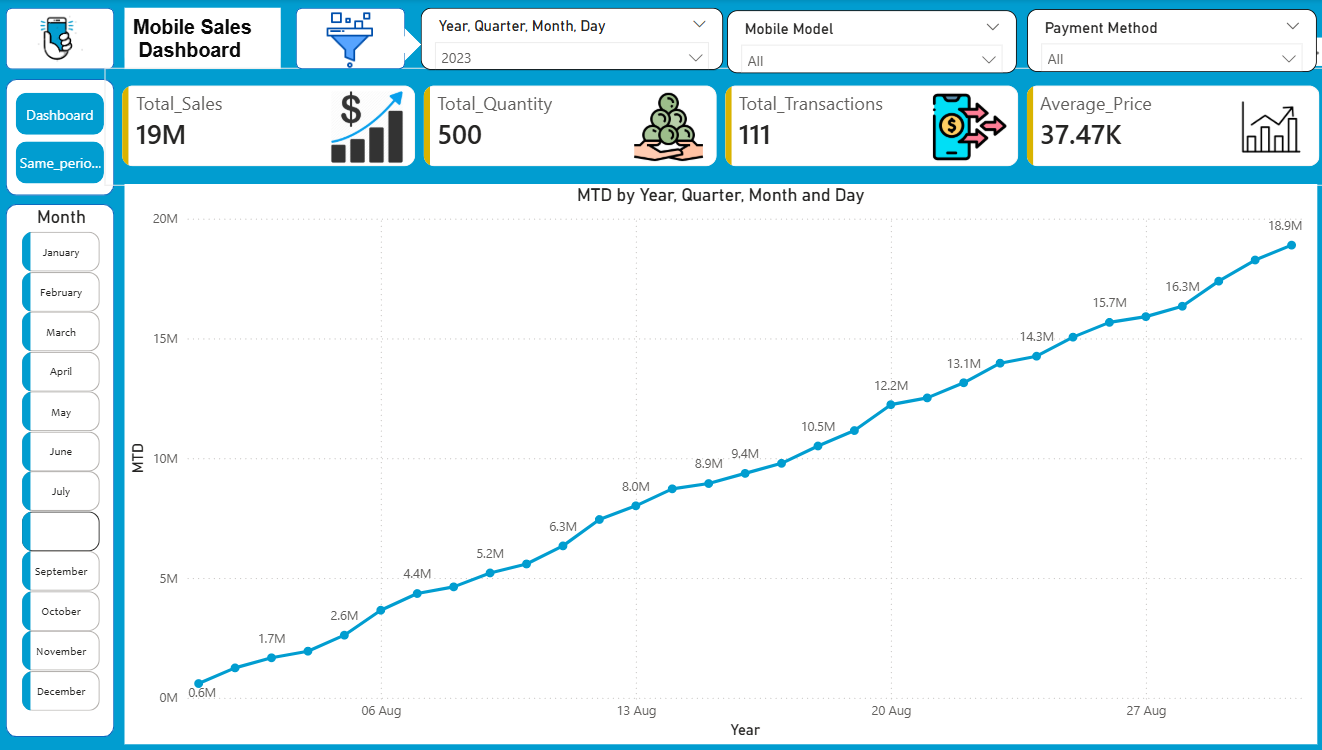

Layout of this report page (visuals, bound fields, positions):
{"tool":"powerbi","page":{"name":"MTD_Report","canvas":[1280,720],"ordinal":1},"visuals":[{"type":"shape","box":[8.9,8.9,103.3,58.9],"z":0},{"type":"image","box":[20,11.1,73.3,56.7],"z":1000},{"type":"shape","title":"Mobile Sales Dashboard","box":[121.4,8.6,148.6,58.6],"z":2000},{"type":"shape","box":[8.9,76.7,103.3,111.1],"z":3000},{"type":"cardVisual","fields":{"Data":["MObile.Total_Sales","MObile.Total_Quantity","MObile.Total_Transactions","MObile.Average_Price"]},"box":[102.9,65.9,1177.4,111.1],"z":4000},{"type":"slicer","fields":{"Values":["Date.Date.Variation.Date Hierarchy.Year","Date.Date.Variation.Date Hierarchy.Quarter","Date.Date.Variation.Date Hierarchy.Month","Date.Date.Variation.Date Hierarchy.Day"]},"box":[403.4,8.2,288.2,59],"z":5000},{"type":"shape","box":[284.3,8.6,104.3,58.6],"z":6000},{"type":"slicer","fields":{"Values":["MObile.Mobile Model"]},"box":[695.7,11,275.8,60.4],"z":7000},{"type":"image","box":[297.1,11.4,77.1,54.3],"z":8000},{"type":"shape","box":[362.9,27.1,41,32],"z":9000},{"type":"slicer","fields":{"Values":["MObile.Payment Method"]},"box":[981.1,9.6,275.8,60.4],"z":10000},{"type":"textbox","box":[102.9,11.4,167.1,54.3],"z":11000},{"type":"lineChart","fields":{"Category":["Date.Date.Variation.Date Hierarchy.Year","Date.Date.Variation.Date Hierarchy.Quarter","Date.Date.Variation.Date Hierarchy.Month","Date.Date.Variation.Date Hierarchy.Day"],"Y":["MObile.MTD"]},"box":[121.4,176.2,1135.7,533.3],"z":12000},{"type":"shape","box":[8.9,195.6,103.3,507.8],"z":13000},{"type":"advancedSlicerVisual","fields":{"Values":["Date.Date.Variation.Date Hierarchy.Month"]},"box":[18.9,197.8,84.4,495.6],"z":14000},{"type":"pageNavigator","box":[17.9,89.3,84.5,86.9],"z":14001}]}

Visuals, with their boxes in screenshot pixels (x1, y1, x2, y2), scaled from the page's 1280x720 canvas onto the 1322x750 screenshot:
shape: region(9, 9, 116, 71)
image: region(21, 12, 96, 71)
"Mobile Sales Dashboard" shape: region(125, 9, 279, 70)
shape: region(9, 80, 116, 196)
cardVisual - MObile.Total_Sales x MObile.Total_Quantity: region(106, 69, 1321, 184)
slicer - Date.Date.Variation.Date Hierarchy.Year x Date.Date.Variation.Date Hierarchy.Quarter: region(417, 9, 714, 70)
shape: region(294, 9, 401, 70)
slicer - MObile.Mobile Model: region(719, 11, 1003, 74)
image: region(307, 12, 386, 68)
shape: region(375, 28, 417, 62)
slicer - MObile.Payment Method: region(1013, 10, 1298, 73)
textbox: region(106, 12, 279, 68)
lineChart - Date.Date.Variation.Date Hierarchy.Year x Date.Date.Variation.Date Hierarchy.Quarter: region(125, 184, 1298, 739)
shape: region(9, 204, 116, 733)
advancedSlicerVisual - Date.Date.Variation.Date Hierarchy.Month: region(20, 206, 107, 722)
pageNavigator: region(18, 93, 106, 184)
